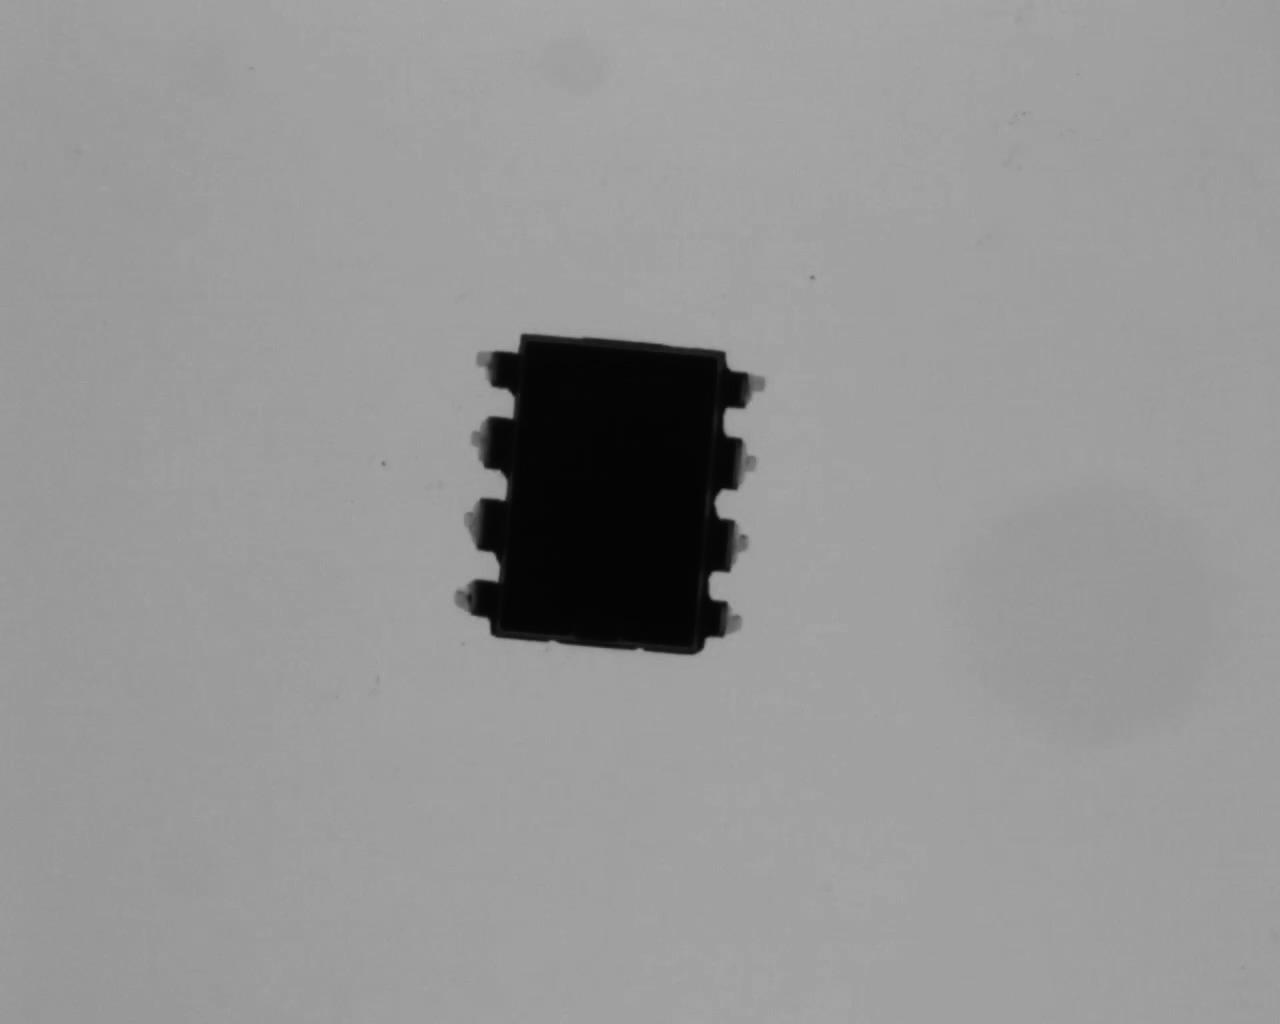Leg: (463, 342, 525, 397), (458, 489, 509, 554), (719, 363, 773, 423), (466, 412, 514, 474), (712, 514, 758, 579), (719, 435, 766, 495), (703, 592, 753, 647), (449, 575, 497, 623)
